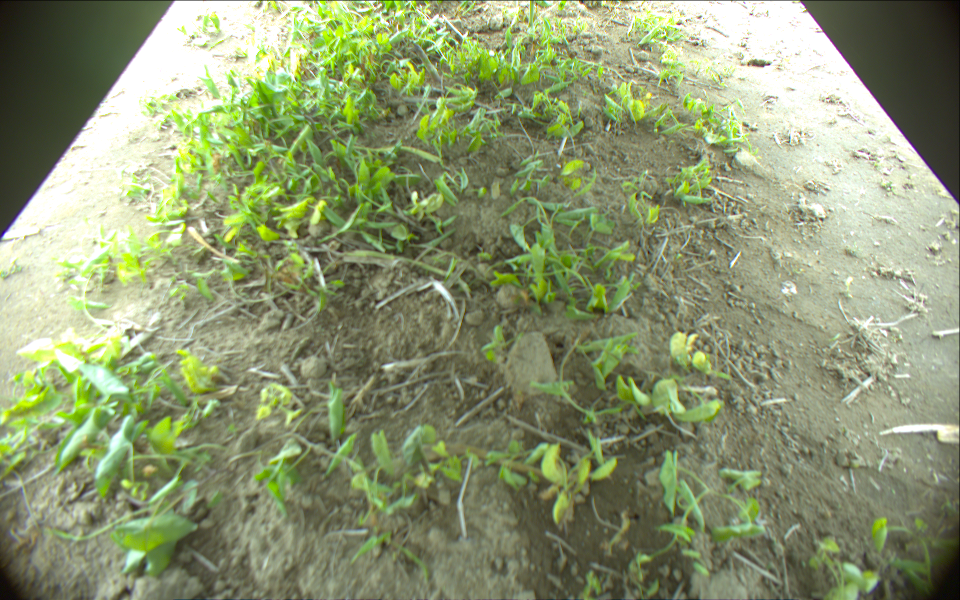aspa: (413, 42, 446, 87), (526, 1, 535, 32)
